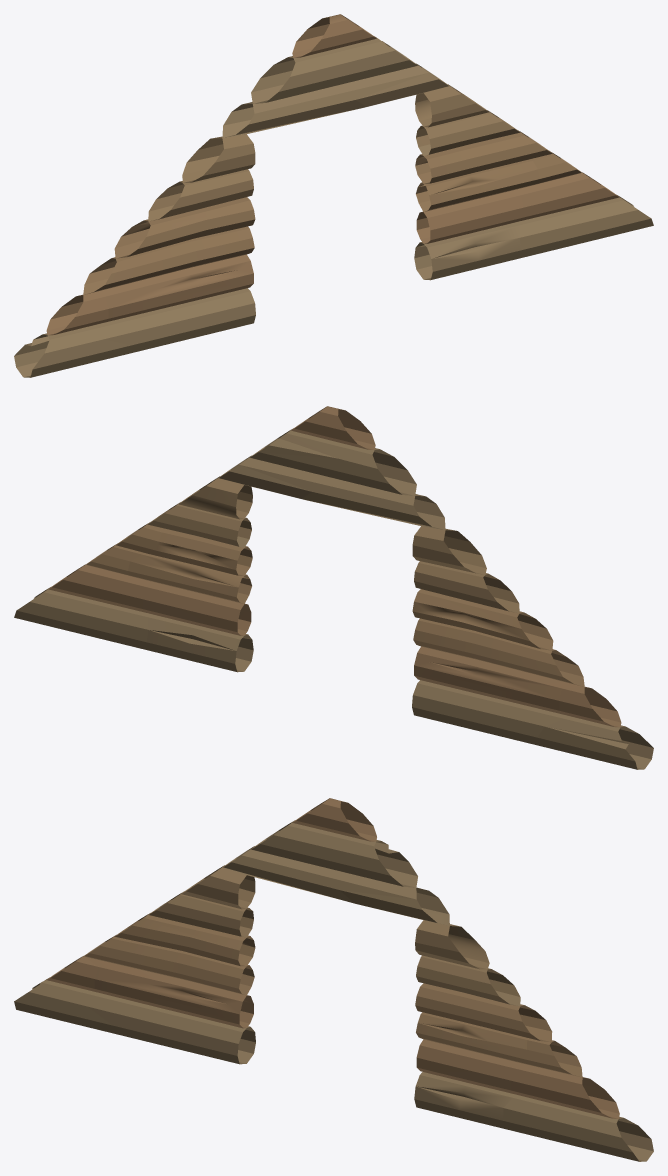
Rendered from rpgpp_ag_roof_end_01_9x4_wall_door_01d.fbx.
3 renders of one model, top to bottom at view 1: azimuth 30°, elevation 25°; view 2: azimuth 150°, elevation 25°; view 3: azimuth 330°, elevation 25°, orthographic.
Visible parts, largest first — view 1: rpgpp_ag_roof_end_01_9x4_wall_door_01d; view 2: rpgpp_ag_roof_end_01_9x4_wall_door_01d; view 3: rpgpp_ag_roof_end_01_9x4_wall_door_01d.
Boxes of the visible parts, x1=… form: rpgpp_ag_roof_end_01_9x4_wall_door_01d: x1=14, y1=14, x2=653, y2=377; rpgpp_ag_roof_end_01_9x4_wall_door_01d: x1=14, y1=406, x2=653, y2=769; rpgpp_ag_roof_end_01_9x4_wall_door_01d: x1=14, y1=798, x2=653, y2=1161.
Size of the model in its own units: 9 by 3.94 by 0.4626.
